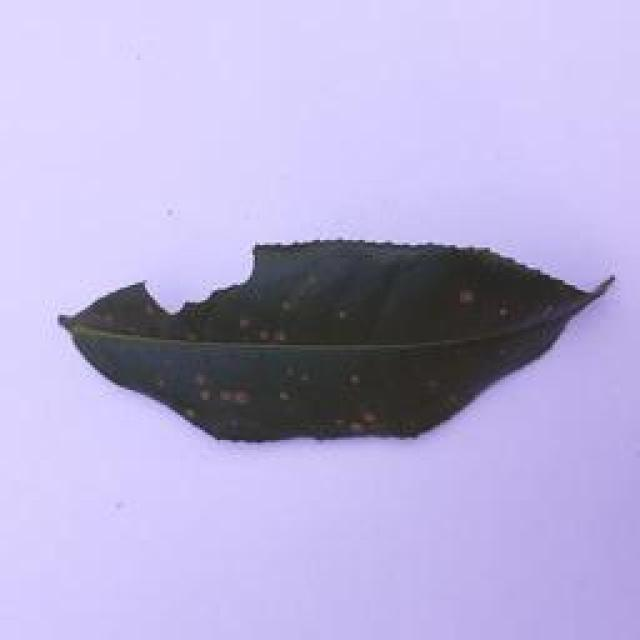Algal Leaf Spot: (45, 226, 612, 454)
